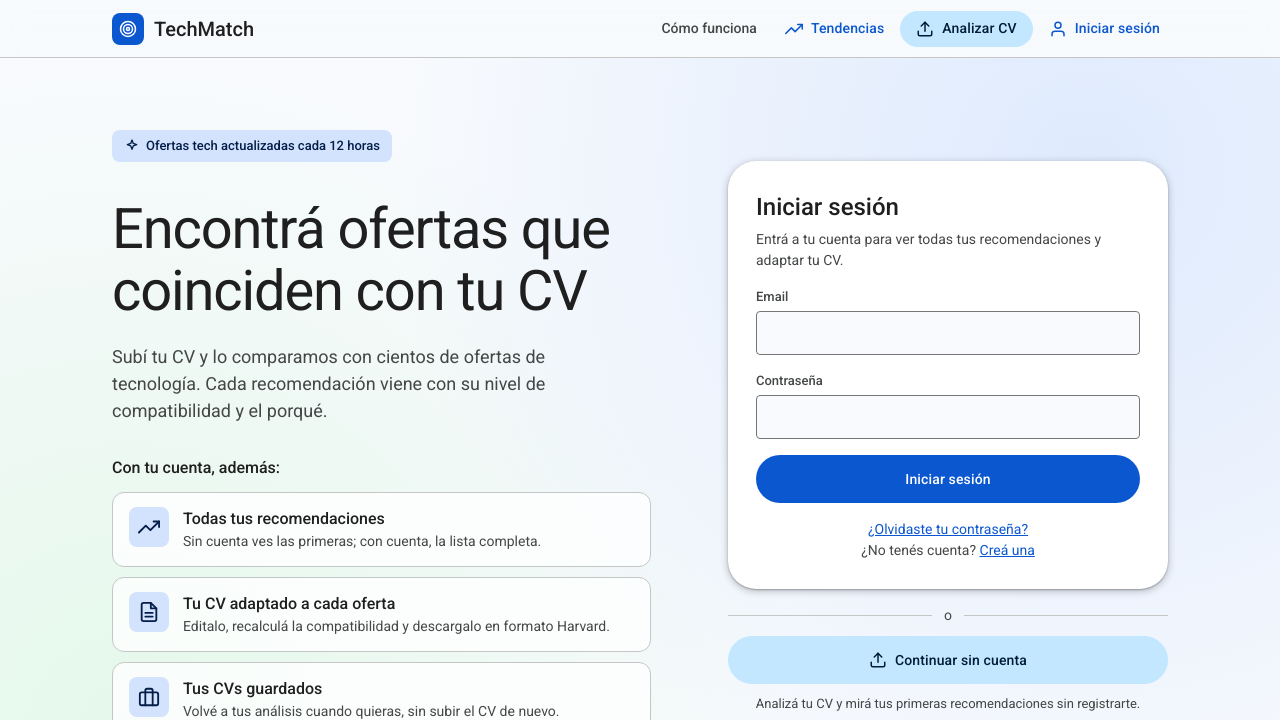
Test case: password reset › is reachable from the login page
What coordinates should you click on to do the following:
click the link "¿Olvidaste tu contraseña?"
I would click on:
 (948, 529)
Its box is [868, 521, 1028, 537].
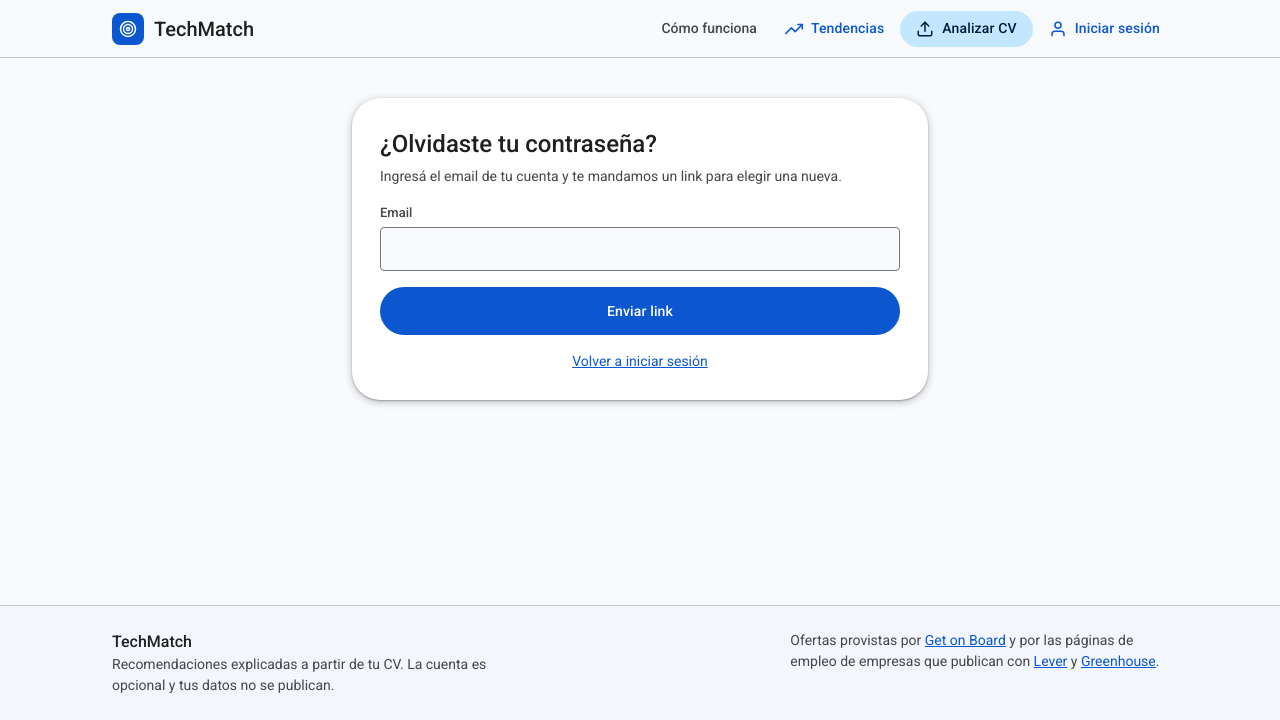
expect the heading "¿Olvidaste tu contraseña?" is shown: met, box [380, 130, 657, 158]
